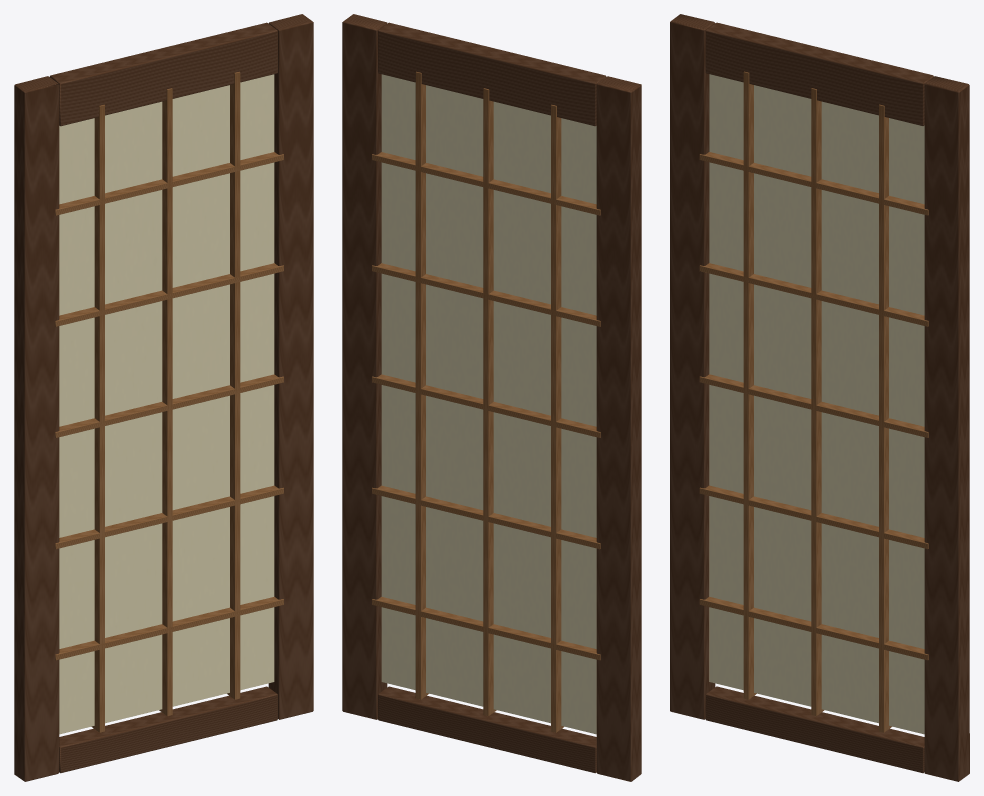
File: shoji.gltf
3 views of the same model, side by side, from view 1: azimuth 30°, elevation 25°; view 2: azimuth 150°, elevation 25°; view 3: azimuth 330°, elevation 25° (orthographic).
Size of the model in its own units: 0.9 by 2.05 by 0.066.
Materials: 3 (3 with a texture image).
